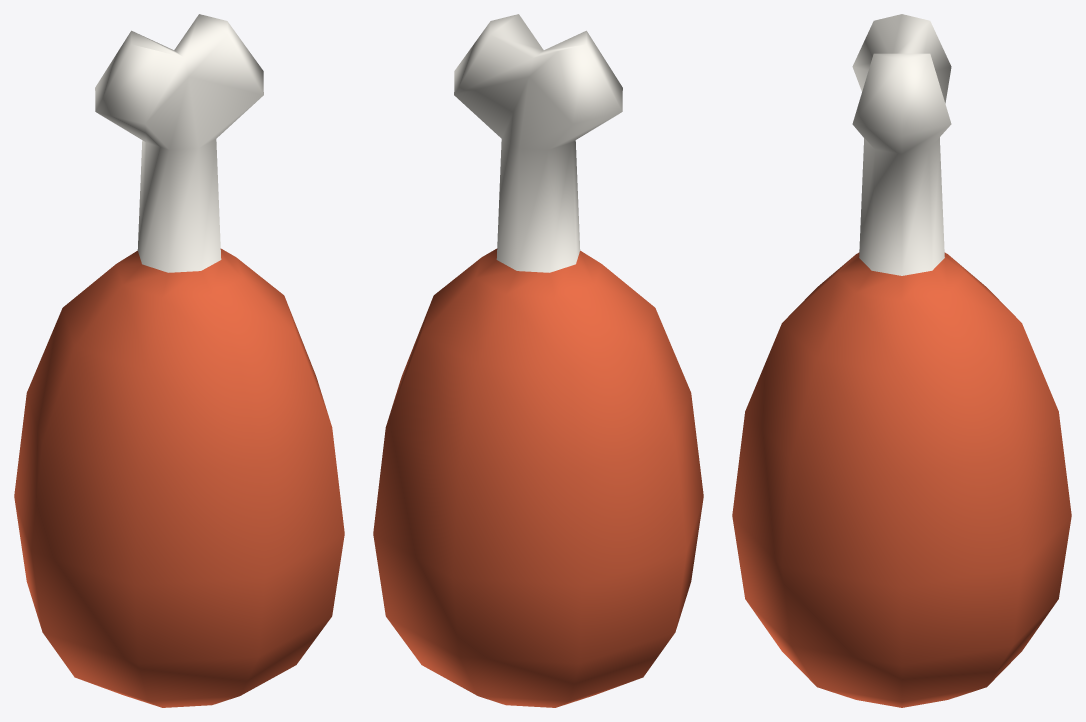
The model's file is Drumstick.fbx.
The picture shows the model from 3 angles, left to right: view 1: azimuth 30°, elevation 25°; view 2: azimuth 150°, elevation 25°; view 3: azimuth 270°, elevation 25°; orthographic projection.
Visible parts, largest first — view 1: Meat; view 2: Meat; view 3: Meat.
Boxes of the visible parts, box(x1,y1,x2,y2) form: Meat: box(14, 14, 344, 707); Meat: box(373, 14, 703, 707); Meat: box(732, 14, 1071, 707).
Bounding box in the file's own units: 200 × 424 × 200.
